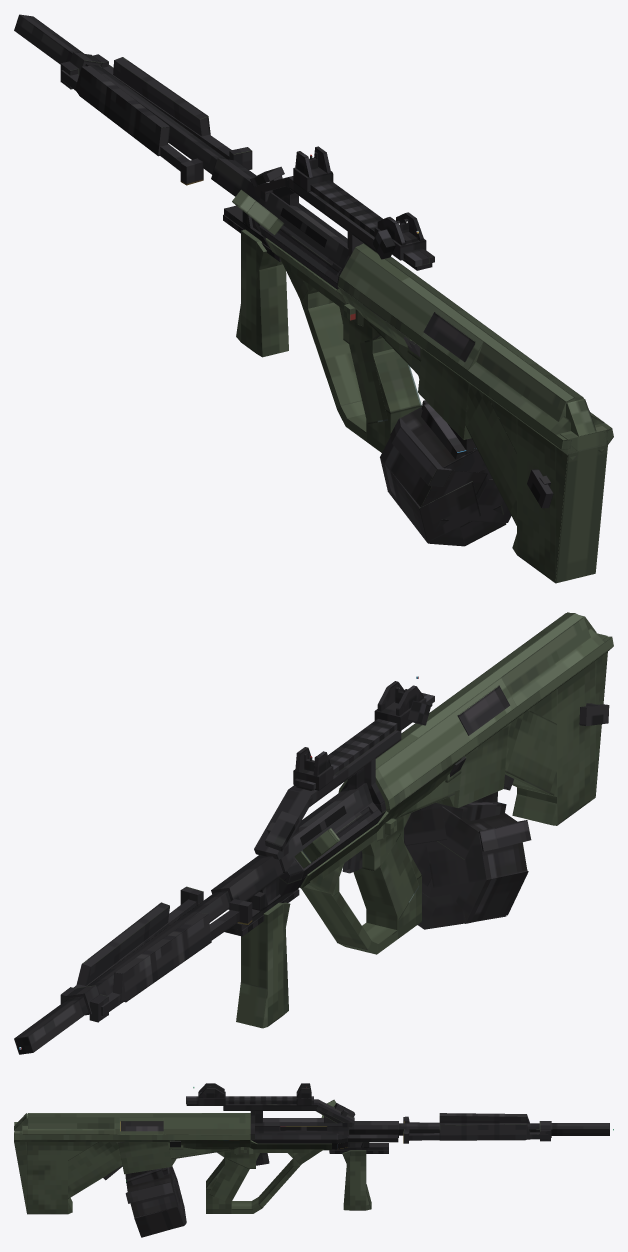
Rendered from aughbar.obj.
3 renders of one model, top to bottom at view 1: azimuth 30°, elevation 25°; view 2: azimuth 150°, elevation 25°; view 3: azimuth 270°, elevation 25°, orthographic. The views are drawn at different scales.
Visible parts, largest first — view 1: gun_117, magazine_16, aug_grip, soL, soR, ironsights2, ironsights, action; view 2: gun_117, magazine_16, aug_grip, soL, soR, ironsights2, ironsights, action; view 3: gun_117, magazine_16, soR, aug_grip, soL, ironsights2, bolt_1, ironsights.
Part boxes in pixels (x1=…): gun_117: x1=14, y1=14, x2=613, y2=583; magazine_16: x1=380, y1=400, x2=511, y2=546; aug_grip: x1=223, y1=205, x2=288, y2=357; soL: x1=60, y1=61, x2=203, y2=185; soR: x1=93, y1=54, x2=252, y2=169; ironsights2: x1=372, y1=212, x2=426, y2=260; ironsights: x1=293, y1=146, x2=333, y2=192; action: x1=232, y1=189, x2=284, y2=235; gun_117: x1=14, y1=612, x2=613, y2=1054; magazine_16: x1=404, y1=791, x2=531, y2=929; aug_grip: x1=224, y1=889, x2=299, y2=1028; soL: x1=89, y1=899, x2=252, y2=1022; soR: x1=60, y1=886, x2=203, y2=1003; ironsights2: x1=374, y1=681, x2=430, y2=730; ironsights: x1=293, y1=747, x2=333, y2=790; action: x1=294, y1=828, x2=340, y2=868; gun_117: x1=14, y1=1096, x2=609, y2=1214; magazine_16: x1=125, y1=1166, x2=186, y2=1237; soR: x1=403, y1=1123, x2=550, y2=1143; aug_grip: x1=329, y1=1142, x2=388, y2=1210; soL: x1=403, y1=1113, x2=529, y2=1123; ironsights2: x1=198, y1=1083, x2=225, y2=1105; bolt_1: x1=120, y1=1121, x2=163, y2=1131; ironsights: x1=296, y1=1083, x2=311, y2=1105.
Bounding box in the file's own units: 0.7684 × 1.89 × 6.9.
